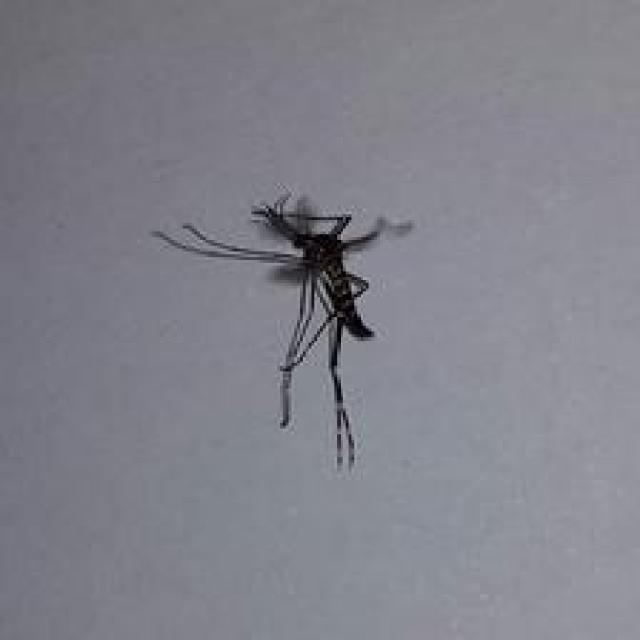Aedes albopictus: (152, 188, 414, 472)
